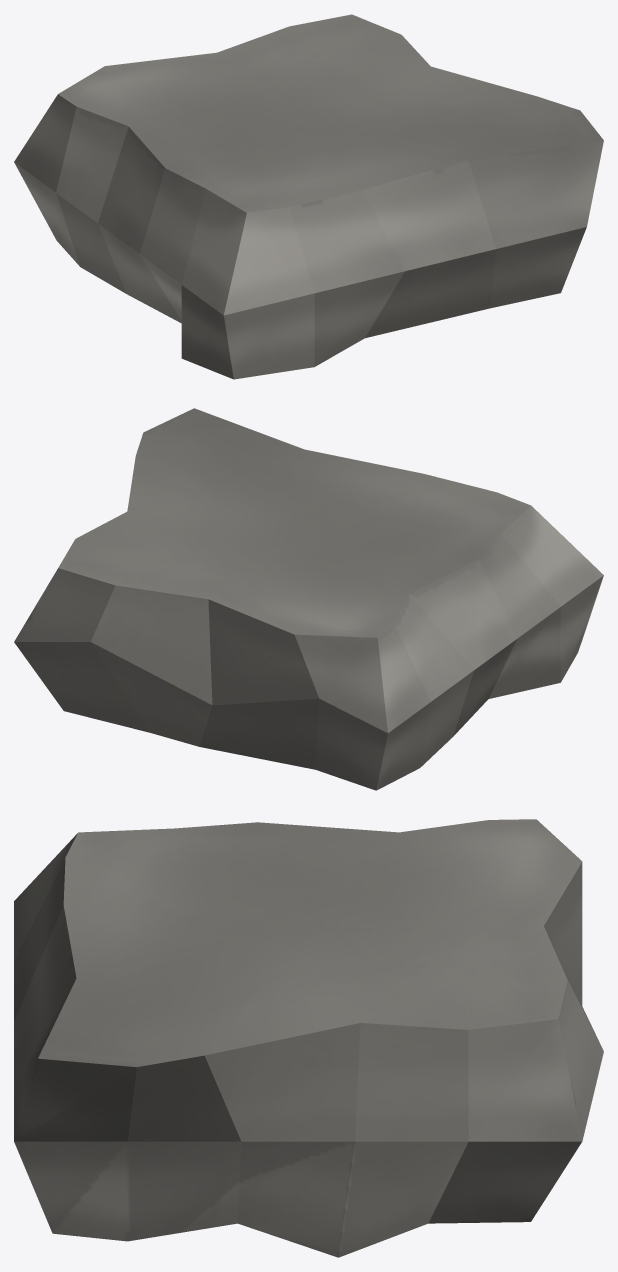
Rendered from floating_path_5.fbx.
3 renders of one model, top to bottom at view 1: azimuth 30°, elevation 25°; view 2: azimuth 150°, elevation 25°; view 3: azimuth 270°, elevation 25°, orthographic. The views are drawn at different scales.
Parts seen in each view (by area): view 1: floating_path_5; view 2: floating_path_5; view 3: floating_path_5.
Part boxes in pixels (box(x1,y1,x2,y2)): floating_path_5: box(14, 14, 603, 379); floating_path_5: box(14, 408, 603, 790); floating_path_5: box(14, 819, 603, 1257).
Size of the model in its own units: 134 by 47.08 by 126.
